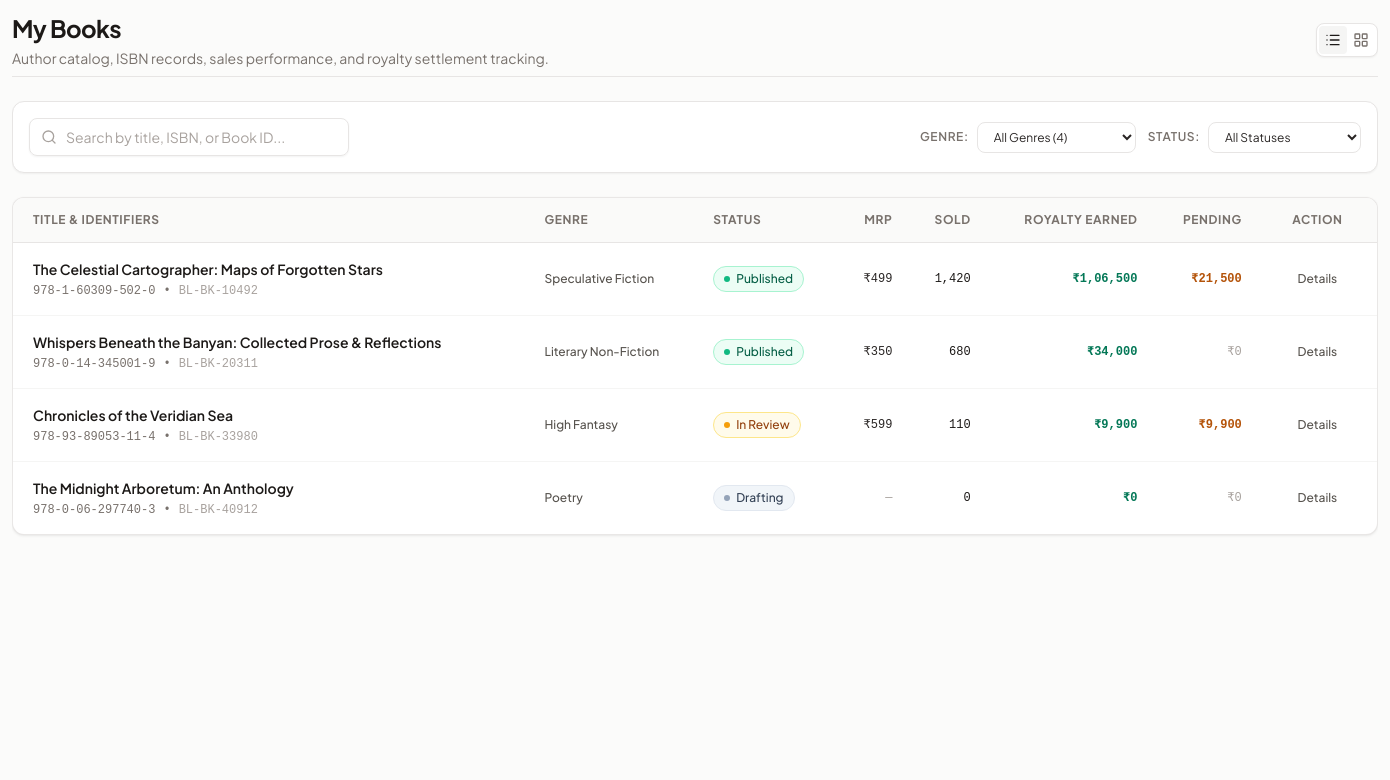
Test: BooksPage Component › filters books by search query
Expected: the link "The Celestial Cartographer: Maps of Forgotten Stars" is shown, [33,260,383,278]
Type "Celestial" into the field with placeholder "Search by title, ISBN, or Book ID..." at (189, 137), box [29,118,349,156]
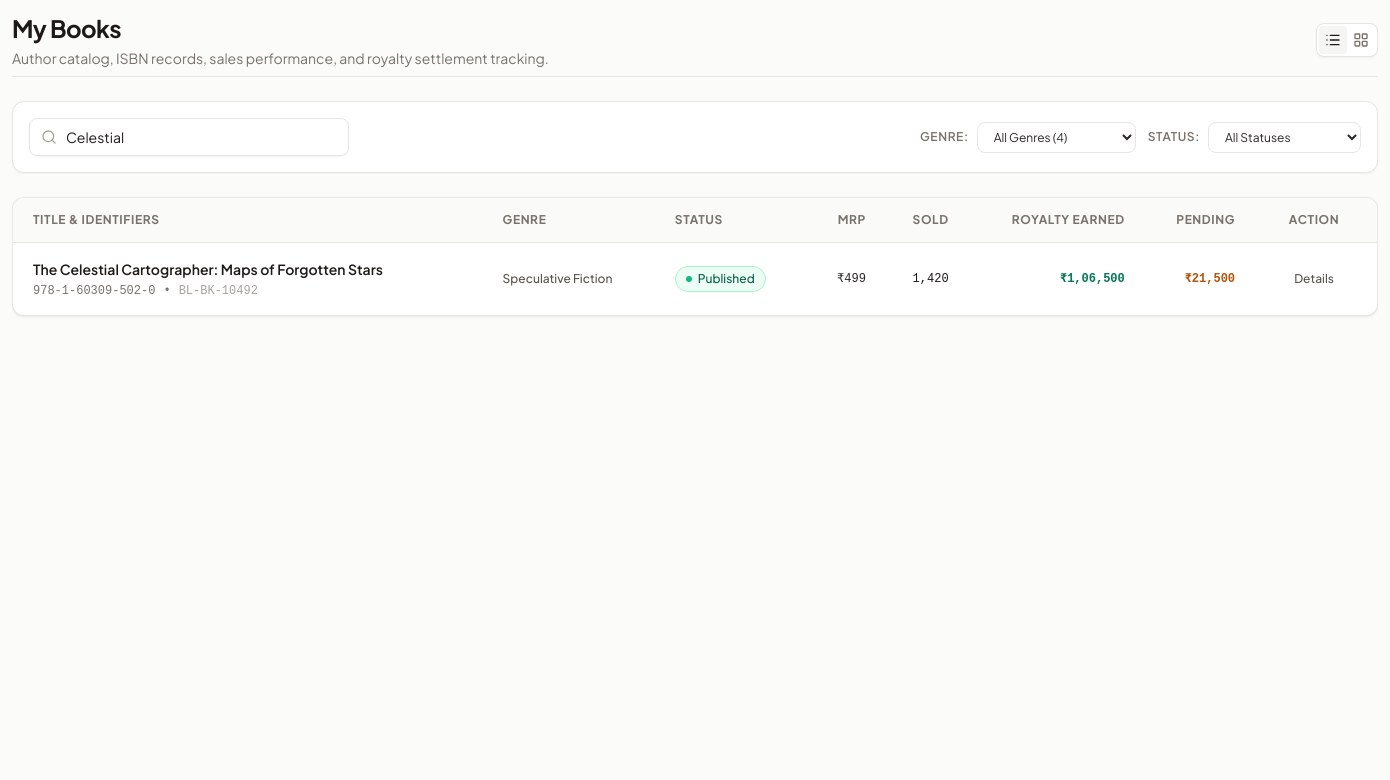
Expected: the link "The Celestial Cartographer: Maps of Forgotten Stars" is shown, [33,260,383,278]
Now the link "Whispers Beneath the Banyan" is gone
